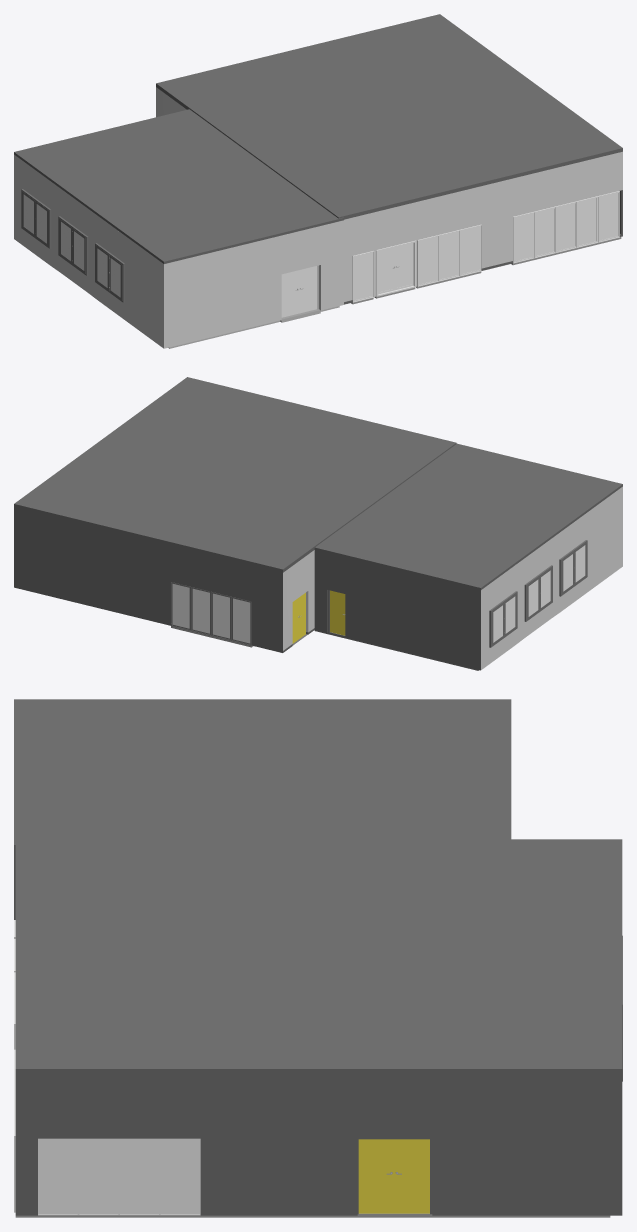
The model's file is Salles.fbx.
3 renders of one model, top to bottom at view 1: azimuth 30°, elevation 25°; view 2: azimuth 150°, elevation 25°; view 3: azimuth 270°, elevation 25°, orthographic. The views are drawn at different scales.
Visible parts, largest first — view 1: Ceiling, Ceiling2, Room, SalleFlexibleRoom, Windows.001, Windows.002, DoubleDoorGlass, DoubleDoorGlass.001, Window.001, Window.002, Window, Windows.003 (+2 smaller); view 2: Ceiling, Ceiling2, Room, SalleFlexibleRoom, Windows.004, Window.002, Window, Window.001, DoorYellow, DoubleDoorYellow.002; view 3: Ceiling, Ceiling2, SalleFlexibleRoom, Windows, DoubleDoorYellow, Floor.
Part boxes in pixels (x1=…): Ceiling: x1=156, y1=14, x2=622, y2=219; Ceiling2: x1=14, y1=109, x2=343, y2=263; Room: x1=14, y1=154, x2=343, y2=348; SalleFlexibleRoom: x1=156, y1=87, x2=622, y2=304; Windows.001: x1=513, y1=191, x2=619, y2=263; Windows.002: x1=417, y1=224, x2=481, y2=286; DoubleDoorGlass: x1=376, y1=240, x2=416, y2=296; DoubleDoorGlass.001: x1=281, y1=265, x2=318, y2=317; Window.001: x1=58, y1=216, x2=88, y2=275; Window.002: x1=21, y1=189, x2=51, y2=248; Window: x1=95, y1=243, x2=124, y2=302; Windows.003: x1=352, y1=251, x2=374, y2=302; Ceiling: x1=14, y1=377, x2=456, y2=572; Ceiling2: x1=314, y1=443, x2=622, y2=590; Room: x1=314, y1=486, x2=622, y2=670; SalleFlexibleRoom: x1=14, y1=507, x2=314, y2=652; Windows.004: x1=170, y1=582, x2=251, y2=645; Window.002: x1=489, y1=591, x2=517, y2=647; Window: x1=559, y1=540, x2=587, y2=596; Window.001: x1=524, y1=565, x2=552, y2=621; DoorYellow: x1=328, y1=590, x2=345, y2=635; DoubleDoorYellow.002: x1=292, y1=592, x2=305, y2=643; Ceiling: x1=15, y1=839, x2=622, y2=1074; Ceiling2: x1=14, y1=699, x2=511, y2=848; SalleFlexibleRoom: x1=15, y1=1075, x2=622, y2=1215; Windows: x1=38, y1=1138, x2=200, y2=1215; DoubleDoorYellow: x1=357, y1=1138, x2=432, y2=1214; Floor: x1=15, y1=1213, x2=610, y2=1217.
Size of the model in its own units: 21.65 by 4.09 by 14.93.
